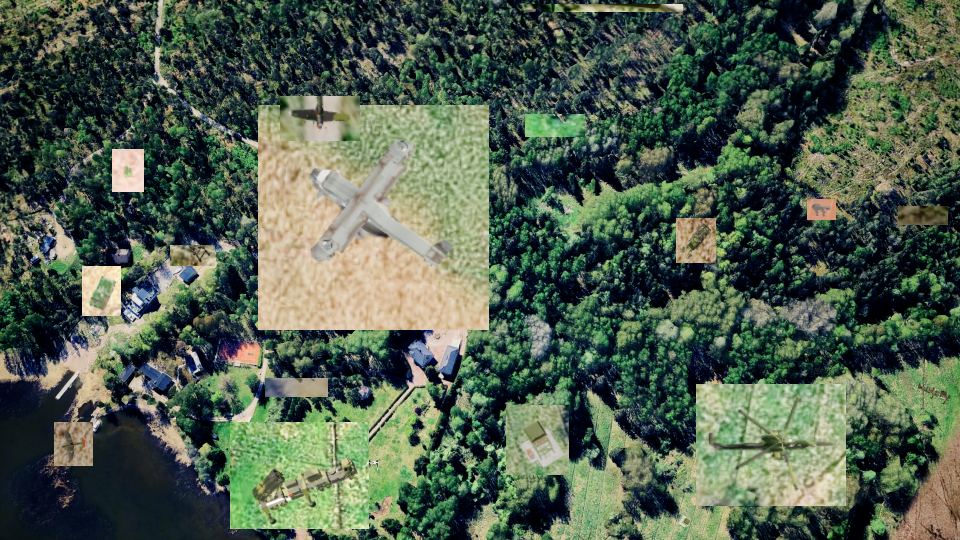condor: (258, 105, 489, 330)
hangar: (525, 4, 683, 12)
helicopter: (696, 384, 846, 506)
jammer: (82, 266, 121, 316)
jet_plane: (525, 114, 585, 137)
large_launcher: (230, 422, 369, 529)
large_tower: (170, 245, 215, 266)
medium_launcher: (898, 206, 948, 225)
medium_plane: (280, 96, 360, 141)
mine_roller: (676, 218, 716, 263)
small_launcher: (112, 149, 144, 192)
small_plane: (54, 422, 93, 466)
small_tower: (506, 405, 569, 475)
spacecraft: (392, 147, 434, 196)
ta-ta: (807, 199, 836, 220)
tank: (265, 378, 328, 397)
